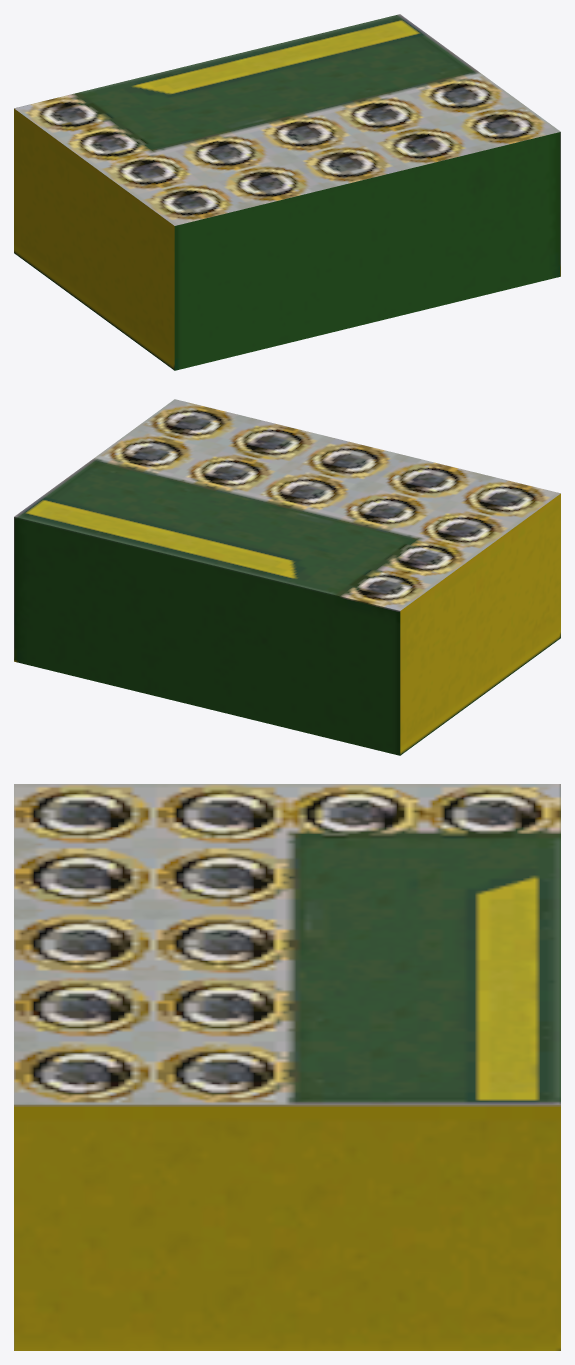
File: Pickup_Riflebullets1.glb
3 views of the same model, one above another, from view 1: azimuth 30°, elevation 25°; view 2: azimuth 150°, elevation 25°; view 3: azimuth 270°, elevation 25° (orthographic). The views are drawn at different scales.
Visible parts, largest first — view 1: pk_RifleBullets_1; view 2: pk_RifleBullets_1; view 3: pk_RifleBullets_1.
Part boxes in pixels (left/top/right/bottom): pk_RifleBullets_1: left=14, top=14, right=560, bottom=370; pk_RifleBullets_1: left=14, top=399, right=560, bottom=755; pk_RifleBullets_1: left=14, top=784, right=560, bottom=1350.
Size of the model in its own units: 0.3382 by 0.1212 by 0.2439.
1 material, 1 textured.
